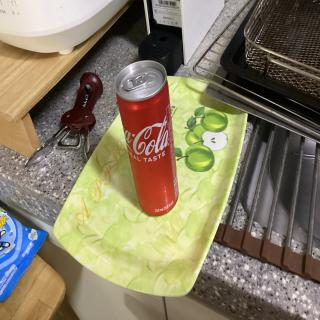cocacola: (114, 57, 181, 218)
